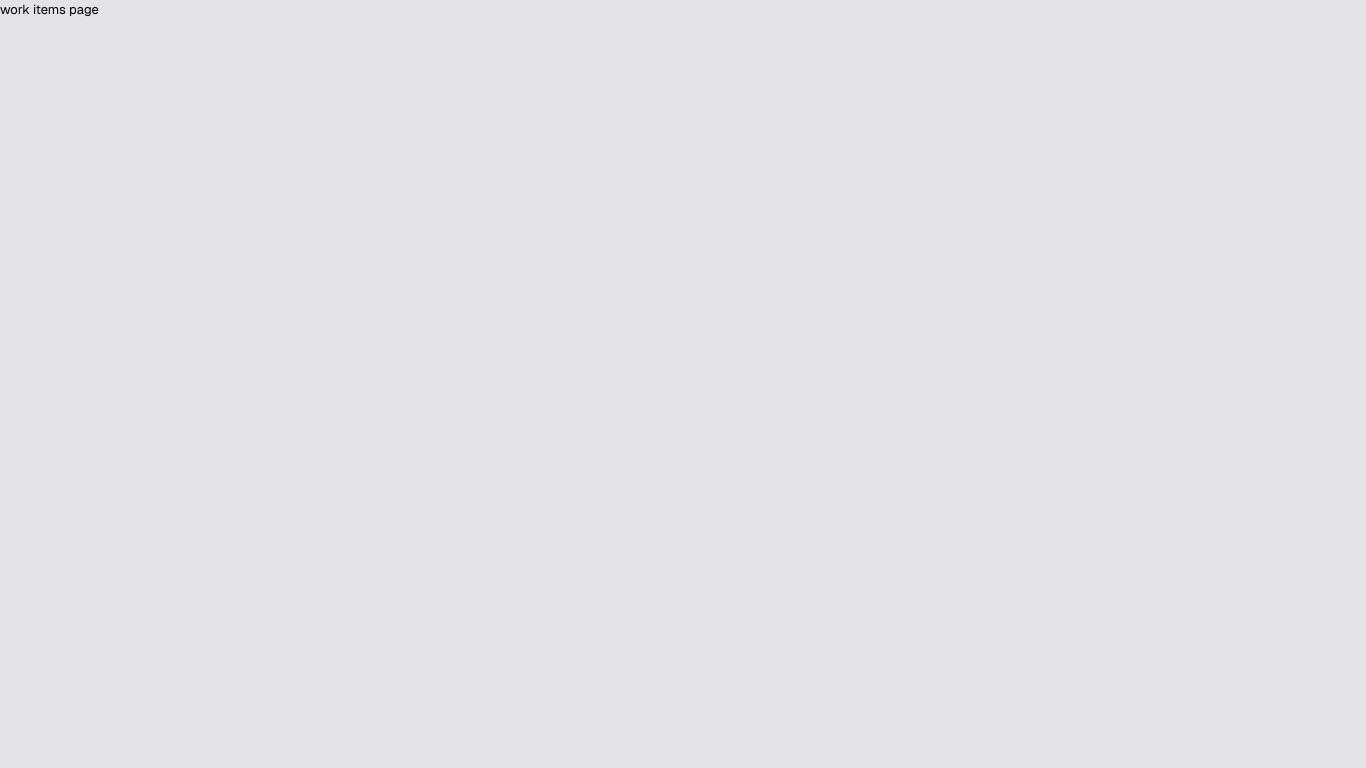
Test: CommandPalette › filters items by query — typing "theme" hides "New work item"
Expected: the text "work items page" is shown, x1=0 y1=1 x2=99 y2=18
Type keys "{Control>}k{/Control}"
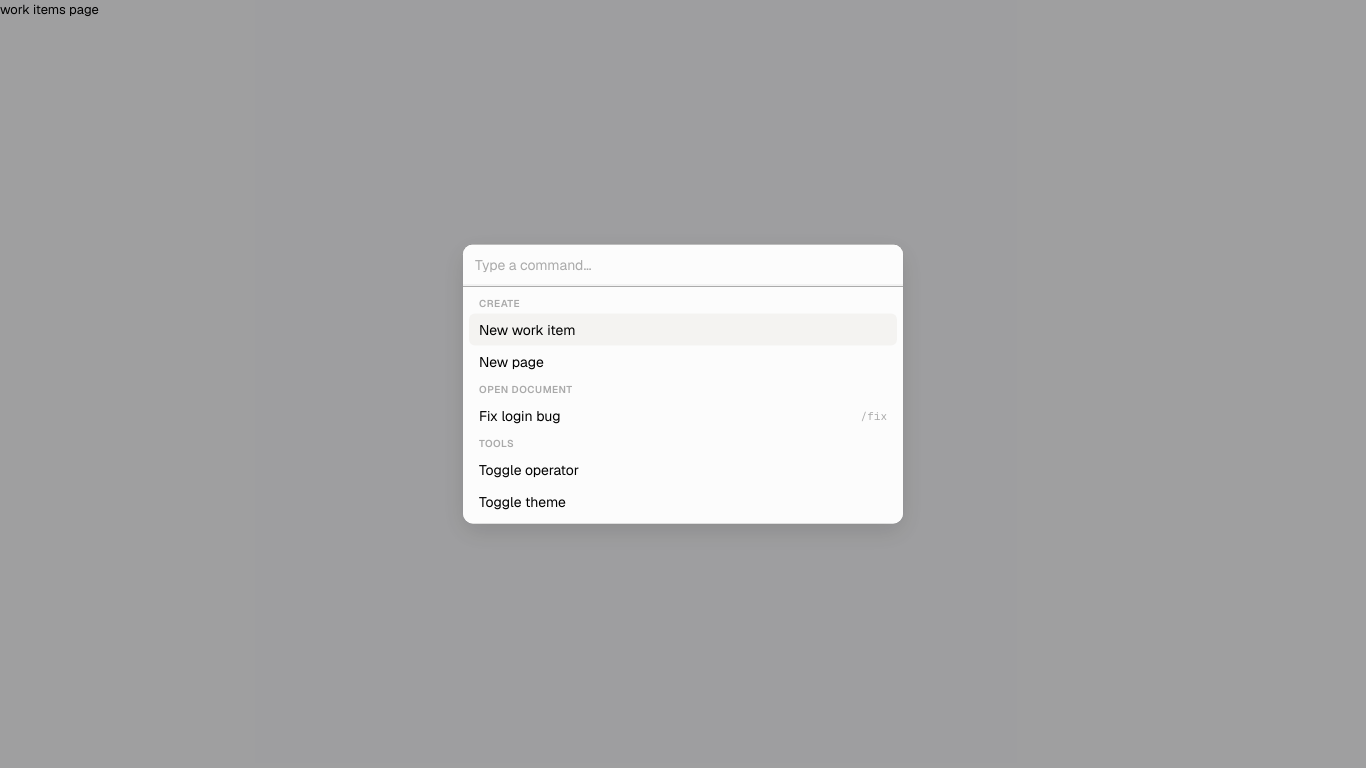
Type "theme" into the dropdown with placeholder "Type a command…" at (683, 265), box x1=463 y1=244 x2=903 y2=286
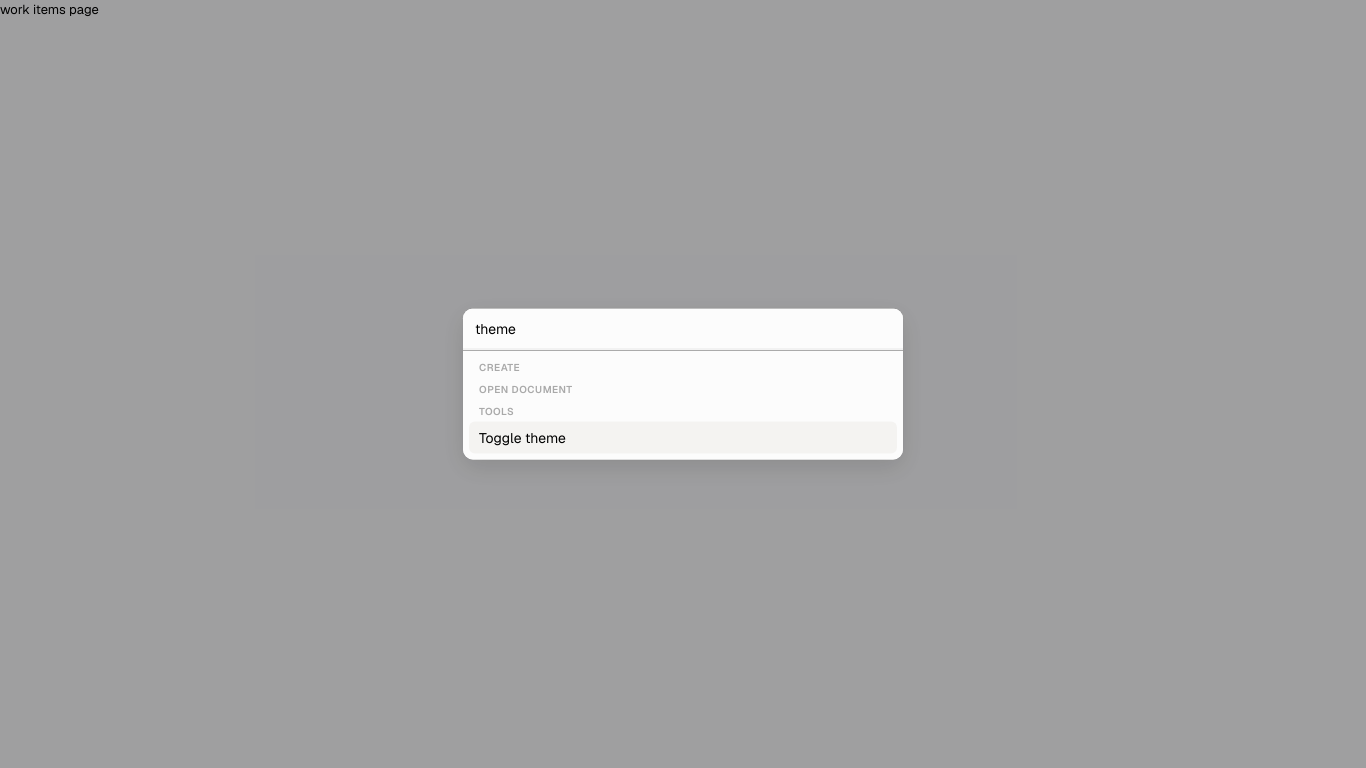
Now the option "Toggle theme" is shown, box x1=469 y1=422 x2=897 y2=454
Now the option "New work item" is gone
